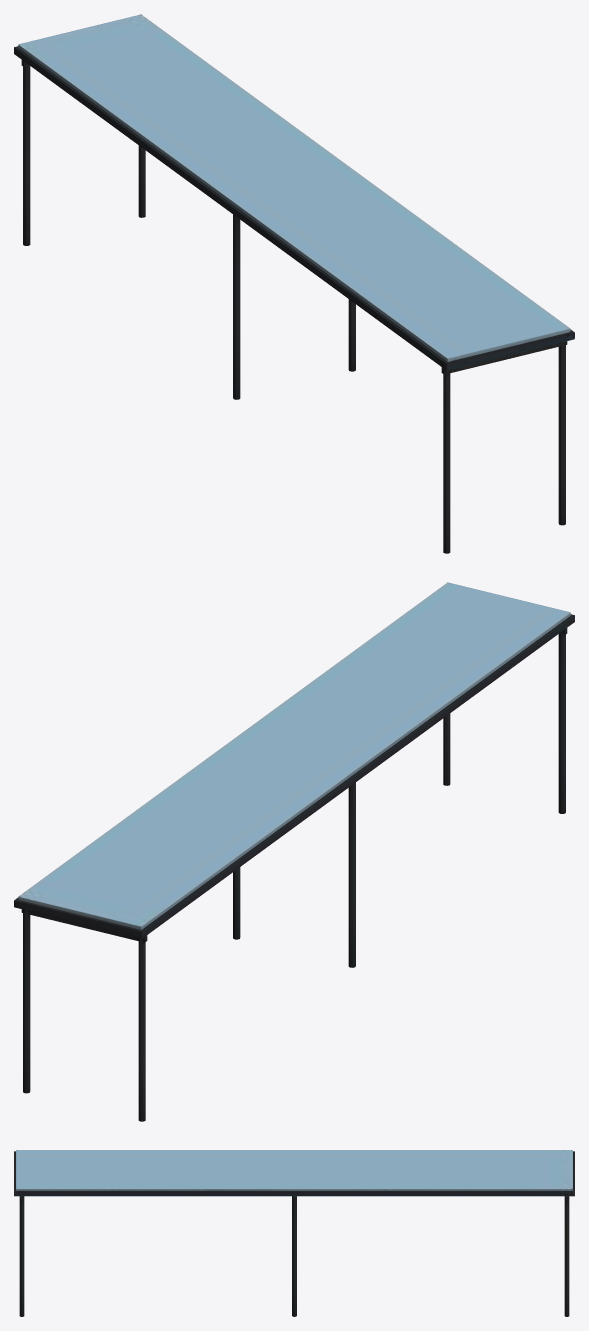
Rendered from marquesina_lluvia.glb.
3 views of the same model, one above another, from view 1: azimuth 30°, elevation 25°; view 2: azimuth 150°, elevation 25°; view 3: azimuth 270°, elevation 25° (orthographic). The views are drawn at different scales.
Parts seen in each view (by area): view 1: marquesina_lluvia; view 2: marquesina_lluvia; view 3: marquesina_lluvia.
Part boxes in pixels (box(x1,y1,x2,y2)): marquesina_lluvia: box(14, 14, 574, 553); marquesina_lluvia: box(14, 582, 574, 1121); marquesina_lluvia: box(14, 1150, 574, 1316).
Size of the model in its own units: 2.4 by 3.53 by 14.
Materials: 1 (1 with a texture image).
